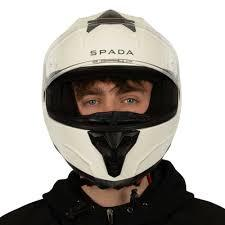Helmet: (44, 10, 178, 180)
